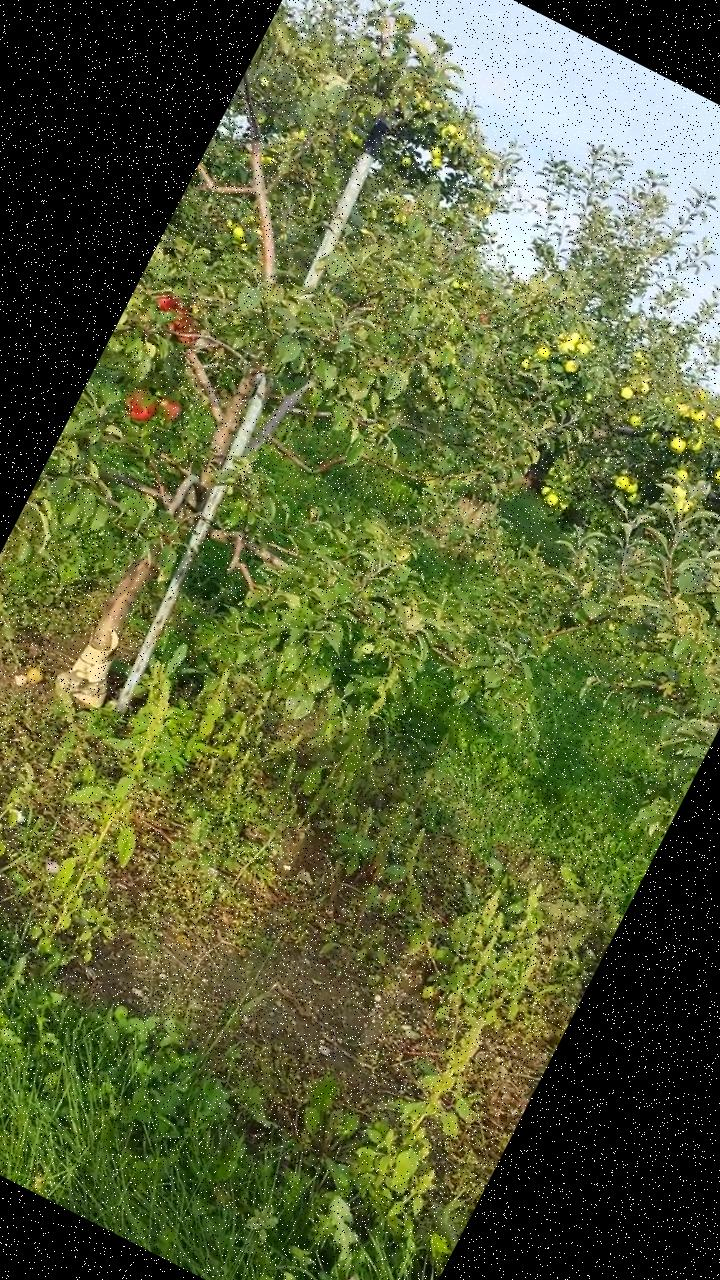Apple: (162, 302, 206, 348), (122, 384, 162, 426), (154, 397, 182, 423), (154, 290, 182, 314)
